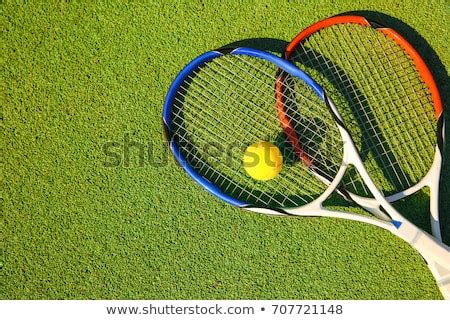tennis_ball: (243, 141, 283, 180)
